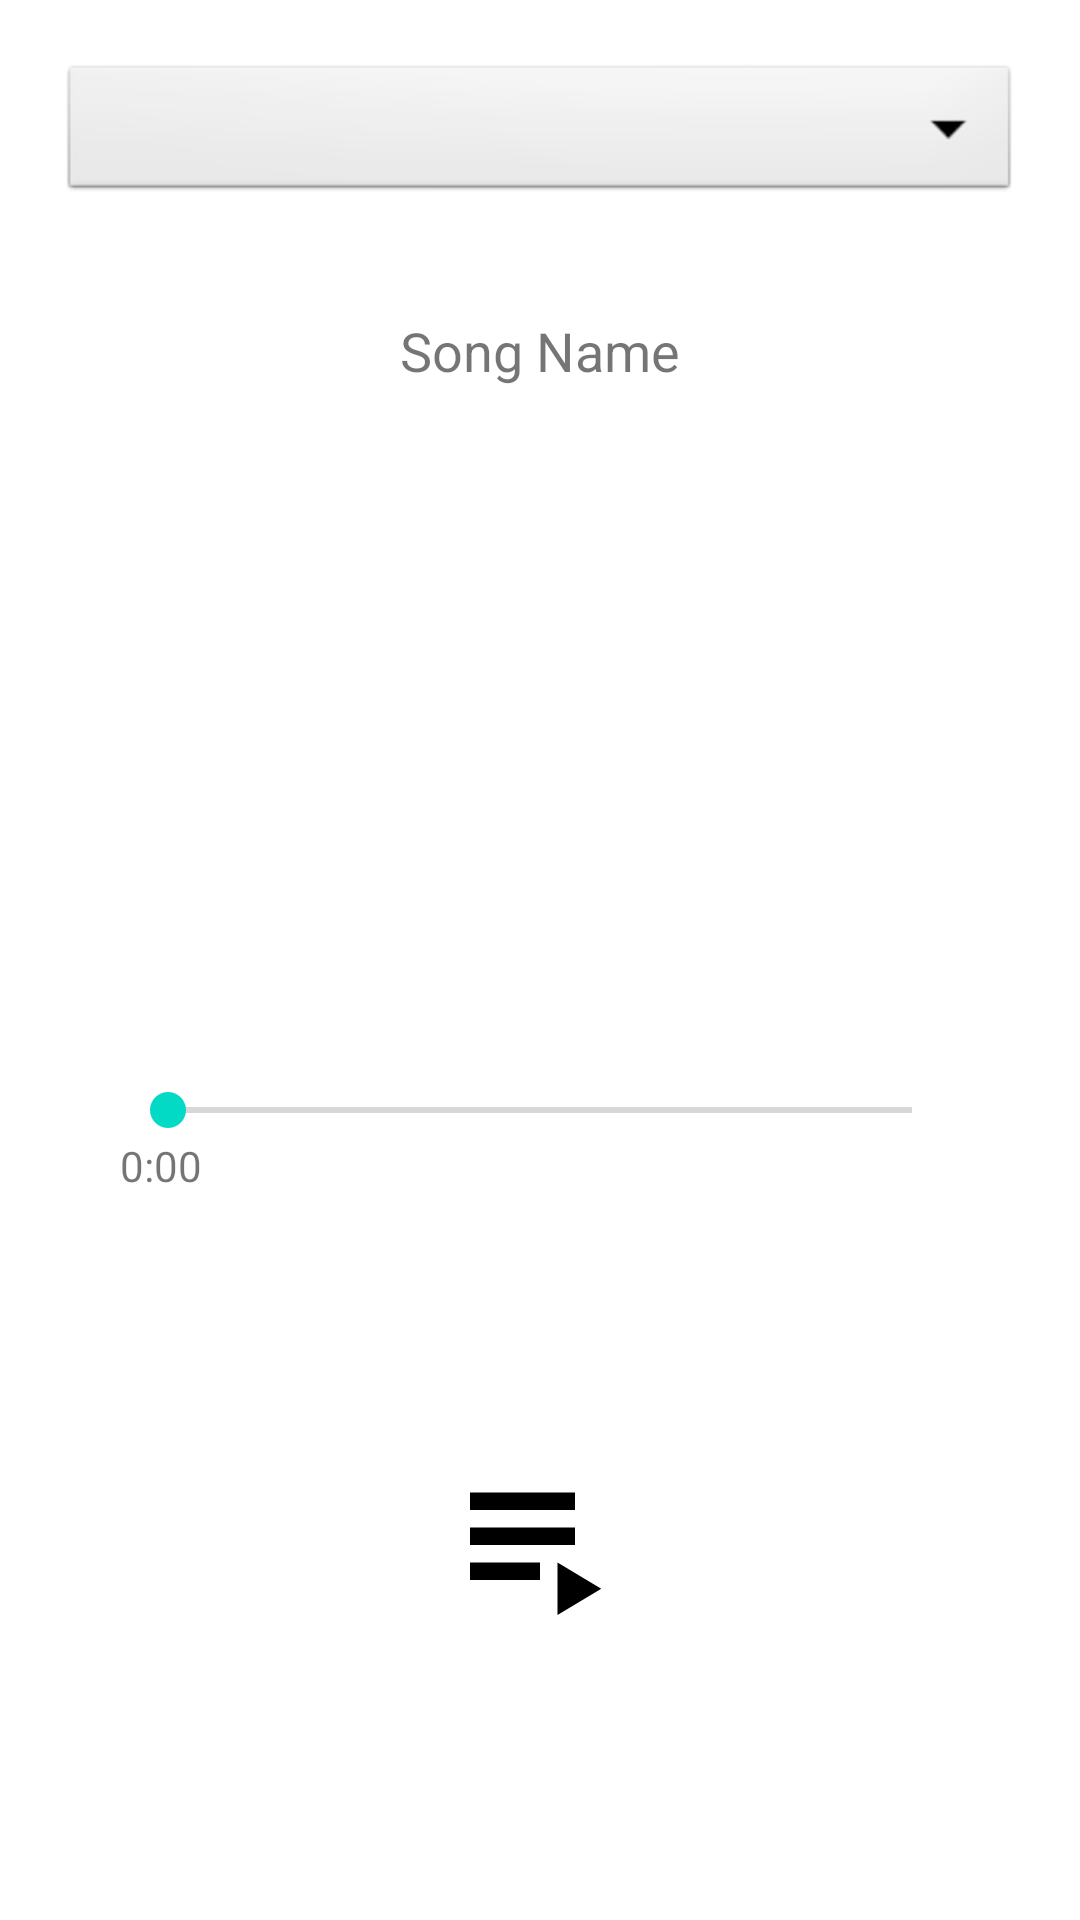

Named icons in this screenshot (1080px×1920px) and their centers, (x,y):
playlist: (535,1553)
